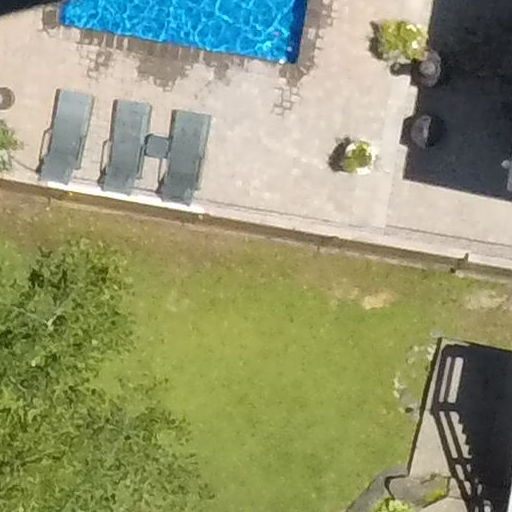flower pot: (369, 12, 430, 74), (334, 130, 381, 178)
pool: (30, 3, 320, 65)
